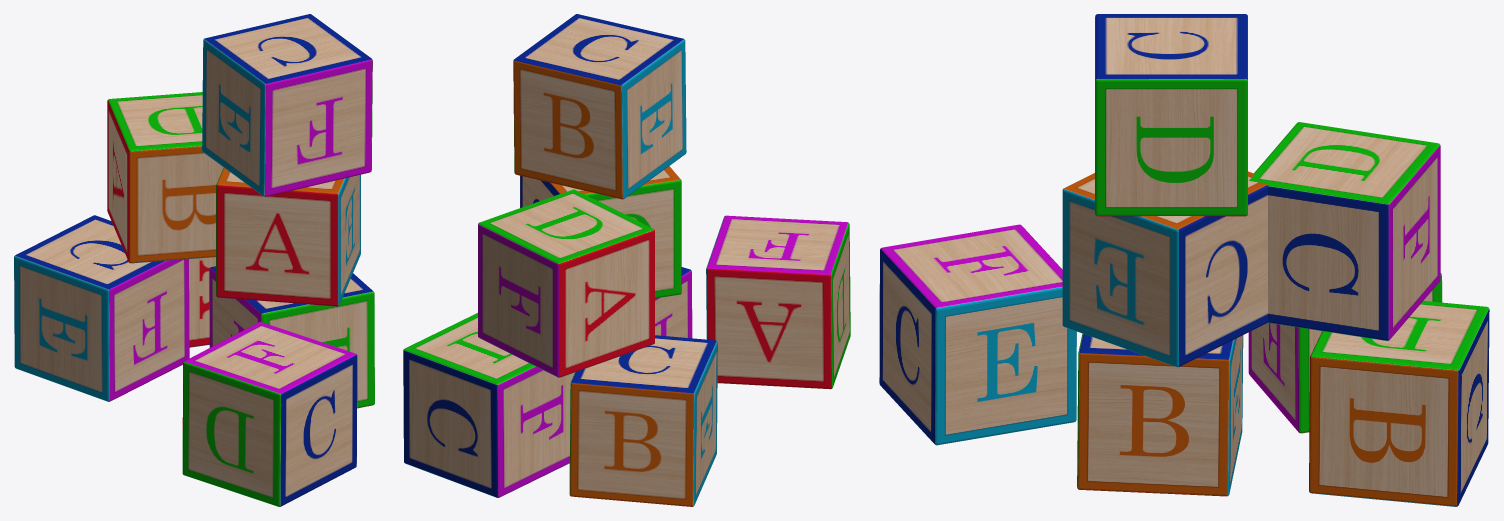
Rendered from LetterBlocks.fbx.
The picture shows the model from 3 angles, left to right: view 1: azimuth 30°, elevation 25°; view 2: azimuth 150°, elevation 25°; view 3: azimuth 270°, elevation 25°; orthographic projection. The views are drawn at different scales.
Parts seen in each view (by area): view 1: Cube.006, Cube.002, Cube.003, Cube.005, Cube.001, Cube, Cube.004; view 2: Cube.005, Cube.002, Cube.006, Cube.004, Cube.003, Cube.001, Cube; view 3: Cube.006, Cube.005, Cube.004, Cube.002, Cube.001, Cube, Cube.003.
Boxes of the visible parts, x1,y1,x2,y2 form: Cube.006: (182, 322, 357, 506); Cube.002: (202, 14, 372, 196); Cube.003: (14, 215, 189, 401); Cube.005: (107, 92, 223, 263); Cube.001: (216, 167, 360, 306); Cube: (209, 266, 374, 408); Cube.004: (189, 257, 215, 347); Cube.005: (478, 189, 654, 377); Cube.002: (513, 14, 686, 199); Cube.006: (706, 215, 850, 389); Cube.004: (403, 313, 574, 497); Cube.003: (569, 335, 717, 506); Cube.001: (520, 166, 681, 298); Cube: (655, 267, 692, 338); Cube.006: (879, 224, 1076, 445); Cube.005: (1249, 122, 1440, 340); Cube.004: (1309, 301, 1489, 506); Cube.002: (1095, 14, 1247, 216); Cube.001: (1062, 171, 1267, 367); Cube: (1077, 333, 1243, 496); Cube.003: (1248, 273, 1442, 433).
Bounding box in the file's own units: 479 × 602 × 797.
